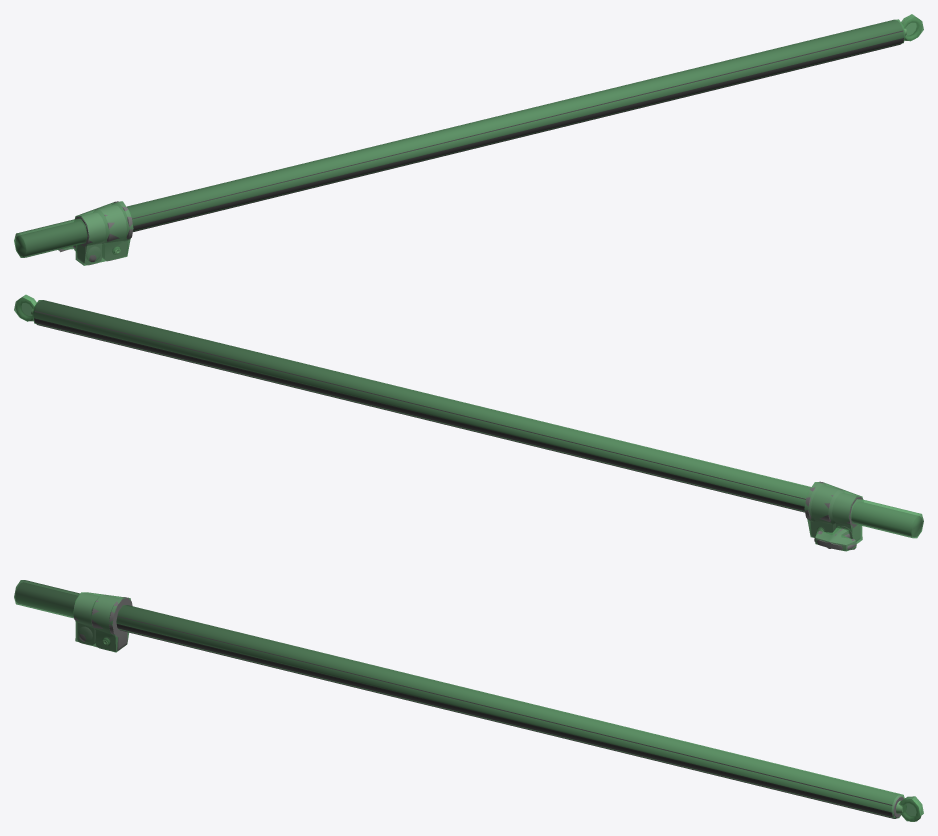
File: TripodArm_01_Mesh.fbx
The picture shows the model from 3 angles, top to bottom: view 1: azimuth 30°, elevation 25°; view 2: azimuth 150°, elevation 25°; view 3: azimuth 330°, elevation 25°; orthographic projection.
Parts seen in each view (by area): view 1: Tripod_02_Arm_LOD0, Tripod_02_Arm_col; view 2: Tripod_02_Arm_LOD0, Tripod_02_Arm_col; view 3: Tripod_02_Arm_LOD0, Tripod_02_Arm_col.
Part boxes in pixels (bbox=[...]): Tripod_02_Arm_LOD0: bbox=[15, 17, 921, 265]; Tripod_02_Arm_col: bbox=[14, 14, 923, 265]; Tripod_02_Arm_LOD0: bbox=[16, 297, 922, 550]; Tripod_02_Arm_col: bbox=[14, 294, 923, 551]; Tripod_02_Arm_LOD0: bbox=[15, 582, 922, 821]; Tripod_02_Arm_col: bbox=[14, 580, 923, 821].
Size of what is drawn, in the model's own units: 1.41 by 0.0776 by 0.0808.
